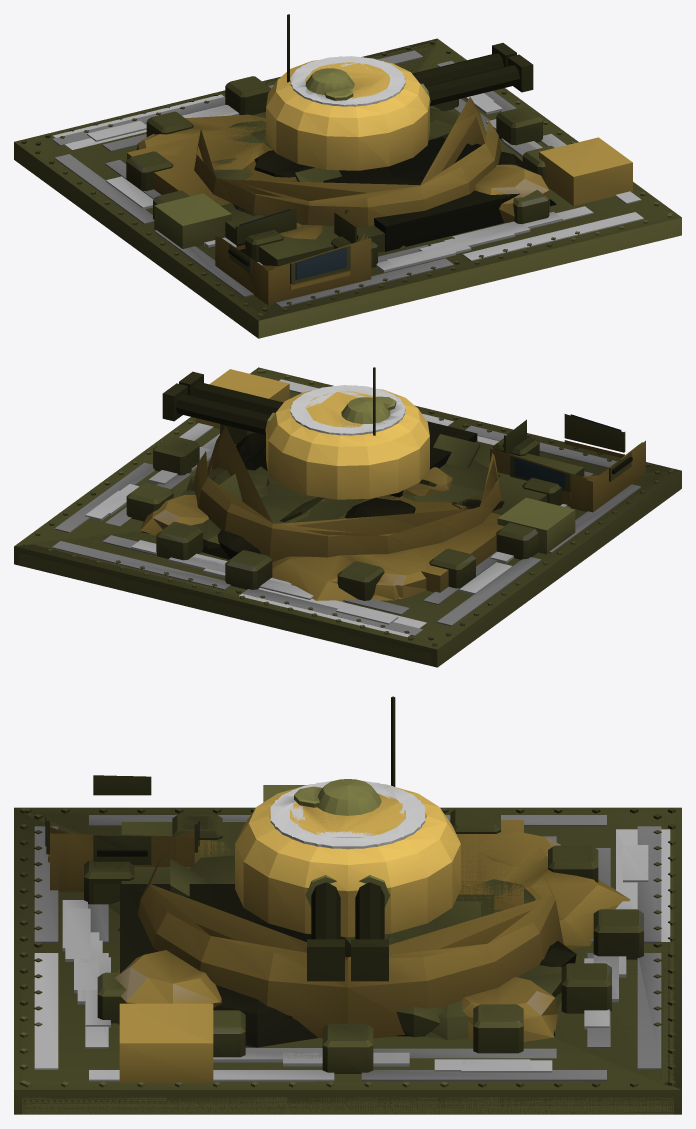
File: meridian_advanced_defences_heavily_damaged.glb
3 views of the same model, one above another, from view 1: azimuth 30°, elevation 25°; view 2: azimuth 150°, elevation 25°; view 3: azimuth 270°, elevation 25° (orthographic). The views are drawn at different scales.
Visible parts, largest first — view 1: body (×3), turret (×2), barrel; view 2: body (×3), turret (×3), barrel; view 3: body (×3), turret (×3), barrel.
Boxes of the visible parts, x1=… form: body (×3): x1=14, y1=38, x2=681, y2=338; turret (×2): x1=266, y1=14, x2=429, y2=170; barrel: x1=412, y1=43, x2=533, y2=105; body (×3): x1=14, y1=367, x2=681, y2=667; turret (×3): x1=266, y1=367, x2=429, y2=499; barrel: x1=162, y1=371, x2=283, y2=434; body (×3): x1=14, y1=775, x2=681, y2=1114; turret (×3): x1=235, y1=696, x2=460, y2=937; barrel: x1=305, y1=875, x2=390, y2=981.
Bounding box in the file's own units: 7.4 × 3.02 × 7.4.
